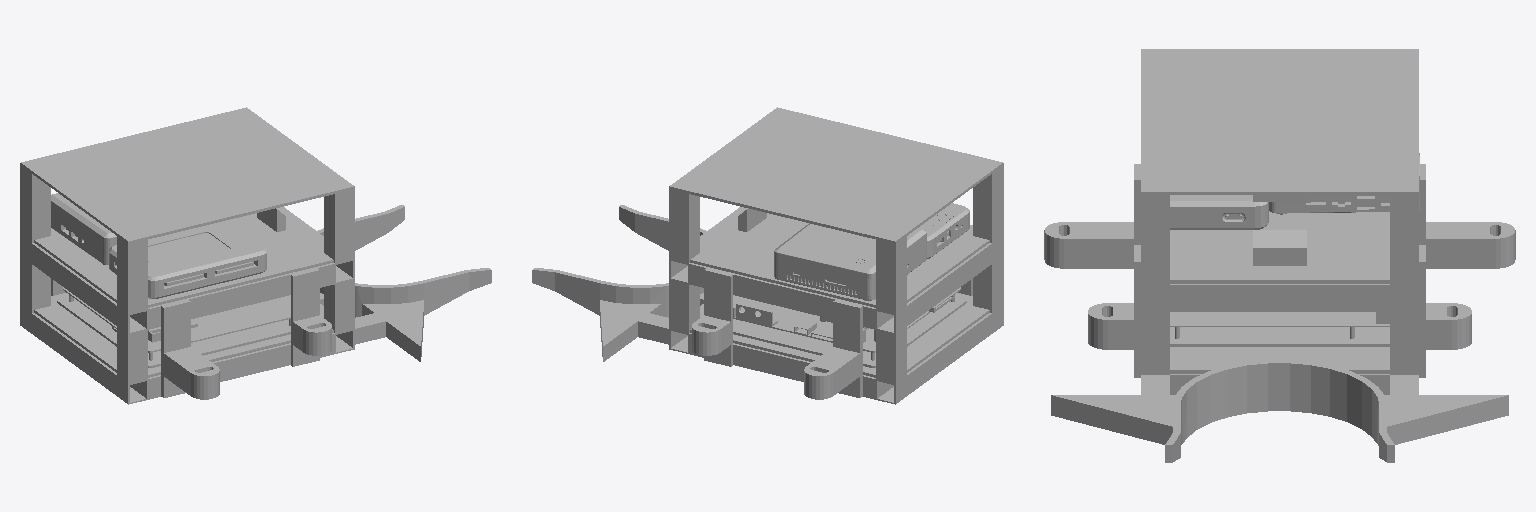
robot.urdf — lide:
<?xml version="1.0" encoding="utf-8"?>
<!-- This URDF was automatically created by SolidWorks to URDF Exporter! Originally created by [author] ([email redacted]) 
     Commit Version: 1.5.1-0-g916b5db  Build Version: 1.5.7152.31018
     For more information, please see http://wiki.ros.org/sw_urdf_exporter -->
<robot
  name="lide">
  <link
    name="base_link">
    <inertial>
      <origin
        xyz="-0.127136676669994 0.0848931987803179 0.0503804848667029"
        rpy="0 0 0" />
      <mass
        value="2.9307309910315" />
      <inertia
        ixx="0.00625087610267153"
        ixy="-6.85311265910123E-07"
        ixz="-1.93401701807652E-05"
        iyy="0.00559017563374933"
        iyz="-3.48451407862527E-07"
        izz="0.0111803411716523" />
    </inertial>
    <visual>
      <origin
        xyz="0 0 0"
        rpy="0 0 0" />
      <geometry>
        <mesh
          filename="package://lide/meshes/base_link.STL" />
      </geometry>
      <material
        name="">
        <color
          rgba="0.752941176470588 0.752941176470588 0.752941176470588 1" />
      </material>
    </visual>
    <collision>
      <origin
        xyz="0 0 0"
        rpy="0 0 0" />
      <geometry>
        <mesh
          filename="package://lide/meshes/base_link.STL" />
      </geometry>
    </collision>
  </link>
  <link
    name="LFS">
    <inertial>
      <origin
        xyz="0.0455604268709419 0.00830943309140333 0.00297622851896683"
        rpy="0 0 0" />
      <mass
        value="0.0727928435161986" />
      <inertia
        ixx="2.20927876796312E-05"
        ixy="-1.64845302056303E-08"
        ixz="-1.56454773175219E-07"
        iyy="1.62632133784213E-05"
        iyz="2.96411876511223E-09"
        izz="1.80843397531752E-05" />
    </inertial>
    <visual>
      <origin
        xyz="0 0 0"
        rpy="0 0 0" />
      <geometry>
        <mesh
          filename="package://lide/meshes/LFS.STL" />
      </geometry>
      <material
        name="">
        <color
          rgba="0.752941176470588 0.752941176470588 0.752941176470588 1" />
      </material>
    </visual>
    <collision>
      <origin
        xyz="0 0 0"
        rpy="0 0 0" />
      <geometry>
        <mesh
          filename="package://lide/meshes/LFS.STL" />
      </geometry>
    </collision>
  </link>
  <joint
    name="LFS"
    type="fixed">
    <origin
      xyz="-0.0590436140506664 0.167403640036847 -0.0365027479853973"
      rpy="1.5707963267949 0 1.5707963267949" />
    <parent
      link="base_link" />
    <child
      link="LFS" />
    <axis
      xyz="0 0 0" />
  </joint>
  <link
    name="LFW">
    <inertial>
      <origin
        xyz="0.015 -6.93889390390723E-18 0"
        rpy="0 0 0" />
      <mass
        value="0.767080911081153" />
      <inertia
        ixx="0.00116426102407189"
        ixy="-1.25105048588131E-22"
        ixz="-1.83311841364852E-20"
        iyy="0.000639661580367031"
        iyz="-6.7762635780344E-21"
        izz="0.000639661580367032" />
    </inertial>
    <visual>
      <origin
        xyz="0 0 0"
        rpy="0 0 0" />
      <geometry>
        <mesh
          filename="package://lide/meshes/LFW.STL" />
      </geometry>
      <material
        name="">
        <color
          rgba="0.898039215686275 0.917647058823529 0.929411764705882 1" />
      </material>
    </visual>
    <collision>
      <origin
        xyz="0 0 0"
        rpy="0 0 0" />
      <geometry>
        <mesh
          filename="package://lide/meshes/LFW.STL" />
      </geometry>
    </collision>
  </link>
  <joint
    name="LFW"
    type="continuous">
    <origin
      xyz="0.0633463599631527 -0.00679803845222955 0.0150436140506676"
      rpy="-1.62639053095063 0 0" />
    <parent
      link="LFS" />
    <child
      link="LFW" />
    <axis
      xyz="1 0 0" />
    <limit
      effort="3.1"
      velocity="7" />
  </joint>
  <link
    name="RFS">
    <inertial>
      <origin
        xyz="-0.0191828308457407 -0.00900932874707058 0.0520056318885905"
        rpy="0 0 0" />
      <mass
        value="0.0727928435161986" />
      <inertia
        ixx="2.20927876796313E-05"
        ixy="-1.64845302056309E-08"
        ixz="1.56454773175212E-07"
        iyy="1.62632133784213E-05"
        iyz="-2.96411876510575E-09"
        izz="1.80843397531752E-05" />
    </inertial>
    <visual>
      <origin
        xyz="0 0 0"
        rpy="0 0 0" />
      <geometry>
        <mesh
          filename="package://lide/meshes/RFS.STL" />
      </geometry>
      <material
        name="">
        <color
          rgba="0.752941176470588 0.752941176470588 0.752941176470588 1" />
      </material>
    </visual>
    <collision>
      <origin
        xyz="0 0 0"
        rpy="0 0 0" />
      <geometry>
        <mesh
          filename="package://lide/meshes/RFS.STL" />
      </geometry>
    </collision>
  </link>
  <joint
    name="RFS"
    type="fixed">
    <origin
      xyz="-0.10807301742029 -0.0277812360620481 -0.0192156081309484"
      rpy="1.5707963267949 0 1.5707963267949" />
    <parent
      link="base_link" />
    <child
      link="RFS" />
    <axis
      xyz="0 0 0" />
  </joint>
  <link
    name="RFW">
    <inertial>
      <origin
        xyz="-0.015 -3.46944695195361E-18 0"
        rpy="0 0 0" />
      <mass
        value="0.767080911081152" />
      <inertia
        ixx="0.00116426102407189"
        ixy="-4.9281223125782E-37"
        ixz="4.60638074444741E-39"
        iyy="0.000639661580367031"
        iyz="-5.25031148738029E-37"
        izz="0.000639661580367031" />
    </inertial>
    <visual>
      <origin
        xyz="0 0 0"
        rpy="0 0 0" />
      <geometry>
        <mesh
          filename="package://lide/meshes/RFW.STL" />
      </geometry>
      <material
        name="">
        <color
          rgba="0.898039215686275 0.917647058823529 0.929411764705882 1" />
      </material>
    </visual>
    <collision>
      <origin
        xyz="0 0 0"
        rpy="0 0 0" />
      <geometry>
        <mesh
          filename="package://lide/meshes/RFW.STL" />
      </geometry>
    </collision>
  </link>
  <joint
    name="RFW"
    type="continuous">
    <origin
      xyz="-0.0369687639379516 -0.0240836054314246 0.0640730174202912"
      rpy="0 0 0" />
    <parent
      link="RFS" />
    <child
      link="RFW" />
    <axis
      xyz="1 0 0" />
    <limit
      effort="3.1"
      velocity="7" />
  </joint>
  <link
    name="LBS">
    <inertial>
      <origin
        xyz="-4.7988246709707E-10 -0.023473389822872 -1.16815021544703E-09"
        rpy="0 0 0" />
      <mass
        value="0.0835358720814331" />
      <inertia
        ixx="7.72968060896302E-05"
        ixy="-8.60478095920736E-13"
        ixz="1.40586689563478E-13"
        iyy="5.13820931926884E-05"
        iyz="-5.06559896292166E-12"
        izz="7.73952626484255E-05" />
    </inertial>
    <visual>
      <origin
        xyz="0 0 0"
        rpy="0 0 0" />
      <geometry>
        <mesh
          filename="package://lide/meshes/LBS.STL" />
      </geometry>
      <material
        name="">
        <color
          rgba="0.898039215686275 0.917647058823529 0.929411764705882 1" />
      </material>
    </visual>
    <collision>
      <origin
        xyz="0 0 0"
        rpy="0 0 0" />
      <geometry>
        <mesh
          filename="package://lide/meshes/LBS.STL" />
      </geometry>
    </collision>
  </link>
  <joint
    name="LBS"
    type="fixed">
    <origin
      xyz="-0.201999999999999 0.24575 -0.0125623205686227"
      rpy="1.5707963267949 0 1.5707963267949" />
    <parent
      link="base_link" />
    <child
      link="LBS" />
    <axis
      xyz="0 0 0" />
  </joint>
  <link
    name="LBW">
    <inertial>
      <origin
        xyz="0 0 -2.77555756156289E-17"
        rpy="0 0 0" />
      <mass
        value="0.299097213540614" />
      <inertia
        ixx="0.000107128427988291"
        ixy="-7.7154576721694E-22"
        ixz="-6.56176679301773E-22"
        iyy="0.000109833959413418"
        iyz="-8.63231614238912E-20"
        izz="0.000107128427988291" />
    </inertial>
    <visual>
      <origin
        xyz="0 0 0"
        rpy="0 0 0" />
      <geometry>
        <mesh
          filename="package://lide/meshes/LBW.STL" />
      </geometry>
      <material
        name="">
        <color
          rgba="0.898039215686275 0.917647058823529 0.929411764705882 1" />
      </material>
    </visual>
    <collision>
      <origin
        xyz="0 0 0"
        rpy="0 0 0" />
      <geometry>
        <mesh
          filename="package://lide/meshes/LBW.STL" />
      </geometry>
    </collision>
  </link>
  <joint
    name="LBW"
    type="fixed">
    <origin
      xyz="0 -0.0557376794313771 0"
      rpy="3.14159265358979 0 1.5707963267949" />
    <parent
      link="LBS" />
    <child
      link="LBW" />
    <axis
      xyz="1 0 0" />
  </joint>
  <link
    name="RBS">
    <inertial>
      <origin
        xyz="-4.79882529547115E-10 -0.0234733898228721 -1.16815021544703E-09"
        rpy="0 0 0" />
      <mass
        value="0.0835358720814329" />
      <inertia
        ixx="7.72968060896302E-05"
        ixy="-8.60478108764943E-13"
        ixz="1.40586703370834E-13"
        iyy="5.13820931926882E-05"
        iyz="-5.06559895626332E-12"
        izz="7.73952626484254E-05" />
    </inertial>
    <visual>
      <origin
        xyz="0 0 0"
        rpy="0 0 0" />
      <geometry>
        <mesh
          filename="package://lide/meshes/RBS.STL" />
      </geometry>
      <material
        name="">
        <color
          rgba="0.898039215686275 0.917647058823529 0.929411764705882 1" />
      </material>
    </visual>
    <collision>
      <origin
        xyz="0 0 0"
        rpy="0 0 0" />
      <geometry>
        <mesh
          filename="package://lide/meshes/RBS.STL" />
      </geometry>
    </collision>
  </link>
  <joint
    name="RBS"
    type="fixed">
    <origin
      xyz="-0.201999999999999 -0.0797499999999997 -0.0125623205686228"
      rpy="1.5707963267949 0 1.5707963267949" />
    <parent
      link="base_link" />
    <child
      link="RBS" />
    <axis
      xyz="0 0 0" />
  </joint>
  <link
    name="RBW">
    <inertial>
      <origin
        xyz="-6.93889390390723E-18 -6.93889390390723E-18 0"
        rpy="0 0 0" />
      <mass
        value="0.299097213540614" />
      <inertia
        ixx="0.000107128427988291"
        ixy="1.42968110446033E-21"
        ixz="-2.66815378385127E-22"
        iyy="0.000109833959413418"
        iyz="-8.63398373850403E-20"
        izz="0.000107128427988291" />
    </inertial>
    <visual>
      <origin
        xyz="0 0 0"
        rpy="0 0 0" />
      <geometry>
        <mesh
          filename="package://lide/meshes/RBW.STL" />
      </geometry>
      <material
        name="">
        <color
          rgba="0.898039215686275 0.917647058823529 0.929411764705882 1" />
      </material>
    </visual>
    <collision>
      <origin
        xyz="0 0 0"
        rpy="0 0 0" />
      <geometry>
        <mesh
          filename="package://lide/meshes/RBW.STL" />
      </geometry>
    </collision>
  </link>
  <joint
    name="RBW"
    type="fixed">
    <origin
      xyz="0 -0.0557376794313771 0"
      rpy="0 0 -1.5707963267949" />
    <parent
      link="RBS" />
    <child
      link="RBW" />
    <axis
      xyz="-1 0 0" />
  </joint>
  <link
    name="fcam">
    <inertial>
      <origin
        xyz="-0.0115544746517359 -2.64429642848896E-06 0.00129029302682179"
        rpy="0 0 0" />
      <mass
        value="0.0436119957238952" />
      <inertia
        ixx="2.35707061906175E-05"
        ixy="-1.01842273865778E-09"
        ixz="2.17585832536658E-08"
        iyy="4.29479050056035E-06"
        iyz="-8.85018118759436E-10"
        izz="2.21058153511886E-05" />
    </inertial>
    <visual>
      <origin
        xyz="0 0 0"
        rpy="0 0 0" />
      <geometry>
        <mesh
          filename="package://lide/meshes/fcam.STL" />
      </geometry>
      <material
        name="">
        <color
          rgba="0.792156862745098 0.819607843137255 0.933333333333333 1" />
      </material>
    </visual>
    <collision>
      <origin
        xyz="0 0 0"
        rpy="0 0 0" />
      <geometry>
        <mesh
          filename="package://lide/meshes/fcam.STL" />
      </geometry>
    </collision>
  </link>
  <joint
    name="fcam"
    type="fixed">
    <origin
      xyz="-0.00388228567653657 0.0830000000000005 0.129817093613409"
      rpy="0 0.261799387799143 0" />
    <parent
      link="base_link" />
    <child
      link="fcam" />
    <axis
      xyz="0 0 0" />
  </joint>
  <link
    name="bcam">
    <inertial>
      <origin
        xyz="-0.02010346452991 -2.64354903288522E-06 -0.00725869505663598"
        rpy="0 0 0" />
      <mass
        value="0.0436119949785286" />
      <inertia
        ixx="2.35707056099601E-05"
        ixy="-1.01834758005602E-09"
        ixz="2.17579332532698E-08"
        iyy="4.29479078276665E-06"
        iyz="-8.85484503961859E-10"
        izz="2.21058144654638E-05" />
    </inertial>
    <visual>
      <origin
        xyz="0 0 0"
        rpy="0 0 0" />
      <geometry>
        <mesh
          filename="package://lide/meshes/bcam.STL" />
      </geometry>
      <material
        name="">
        <color
          rgba="0.792156862745098 0.819607843137255 0.933333333333333 1" />
      </material>
    </visual>
    <collision>
      <origin
        xyz="0 0 0"
        rpy="0 0 0" />
      <geometry>
        <mesh
          filename="package://lide/meshes/bcam.STL" />
      </geometry>
    </collision>
  </link>
  <joint
    name="bcam"
    type="fixed">
    <origin
      xyz="0 0.0830000000000002 0.0912322330470338"
      rpy="0 0.785398163397446 0" />
    <parent
      link="base_link" />
    <child
      link="bcam" />
    <axis
      xyz="0 0 0" />
  </joint>
  <link
    name="Lidar">
    <inertial>
      <origin
        xyz="0.0135233595897215 0.000461955980230341 -0.0287648854952087"
        rpy="0 0 0" />
      <mass
        value="0.0730845717509052" />
      <inertia
        ixx="1.95808757381404E-05"
        ixy="-1.03933586285386E-07"
        ixz="-4.28391168535083E-07"
        iyy="2.41250079664705E-05"
        iyz="9.42710322119357E-09"
        izz="4.14184516335429E-05" />
    </inertial>
    <visual>
      <origin
        xyz="0 0 0"
        rpy="0 0 0" />
      <geometry>
        <mesh
          filename="package://lide/meshes/Lidar.STL" />
      </geometry>
      <material
        name="">
        <color
          rgba="0.792156862745098 0.819607843137255 0.933333333333333 1" />
      </material>
    </visual>
    <collision>
      <origin
        xyz="0 0 0"
        rpy="0 0 0" />
      <geometry>
        <mesh
          filename="package://lide/meshes/Lidar.STL" />
      </geometry>
    </collision>
  </link>
  <joint
    name="Lidar"
    type="fixed">
    <origin
      xyz="-0.194576367600143 0.0820059524462996 0.206499999999998"
      rpy="0 0 0" />
    <parent
      link="base_link" />
    <child
      link="Lidar" />
    <axis
      xyz="0 0 0" />
  </joint>
  <link
    name="imu_link">
    <inertial>
      <origin
        xyz="0.0038502202609396 6.23984008056022E-05 -0.0010337757523434"
        rpy="0 0 0" />
      <mass
        value="0.00189180567975737" />
      <inertia
        ixx="7.79431263454135E-08"
        ixy="1.39214190556515E-10"
        ixz="1.54511633252899E-11"
        iyy="4.85473464623125E-08"
        iyz="-6.30099051334897E-11"
        izz="1.25233585370532E-07" />
    </inertial>
    <visual>
      <origin
        xyz="0 0 0"
        rpy="0 0 0" />
      <geometry>
        <mesh
          filename="package://lide/meshes/imu_link.STL" />
      </geometry>
      <material
        name="">
        <color
          rgba="0.898039215686275 0.917647058823529 0.929411764705882 1" />
      </material>
    </visual>
    <collision>
      <origin
        xyz="0 0 0"
        rpy="0 0 0" />
      <geometry>
        <mesh
          filename="package://lide/meshes/imu_link.STL" />
      </geometry>
    </collision>
  </link>
  <joint
    name="imu_link"
    type="fixed">
    <origin
      xyz="-0.0439999999999988 0.0830000000000003 0.155"
      rpy="0 0 0" />
    <parent
      link="base_link" />
    <child
      link="imu_link" />
    <axis
      xyz="0 0 0" />
  </joint>
</robot>

--- What the picture shows (computed from the rendered views, not written in the file) ---
The picture shows the robot from 3 angles, left to right: view 1: azimuth 30°, elevation 25°; view 2: azimuth 150°, elevation 25°; view 3: azimuth 270°, elevation 25°; orthographic projection.
Robot: lide — 13 links, 12 joints (2 continuous, 10 fixed); root link base_link; default pose: every joint at zero.
Visible links, largest first — view 1: base_link; view 2: base_link; view 3: base_link.
Boxes of the visible links, bbox=[...] form: base_link: bbox=[20, 107, 491, 404]; base_link: bbox=[532, 107, 1003, 404]; base_link: bbox=[1044, 49, 1515, 462].
Size in the robot's own frame: 0.418 by 0.3555 by 0.175 metres.
Meshes: 13 distinct files referenced, 1 mesh visuals loaded (1 binary STL); not drawn: 12 (reference not matched to a file when rendering).